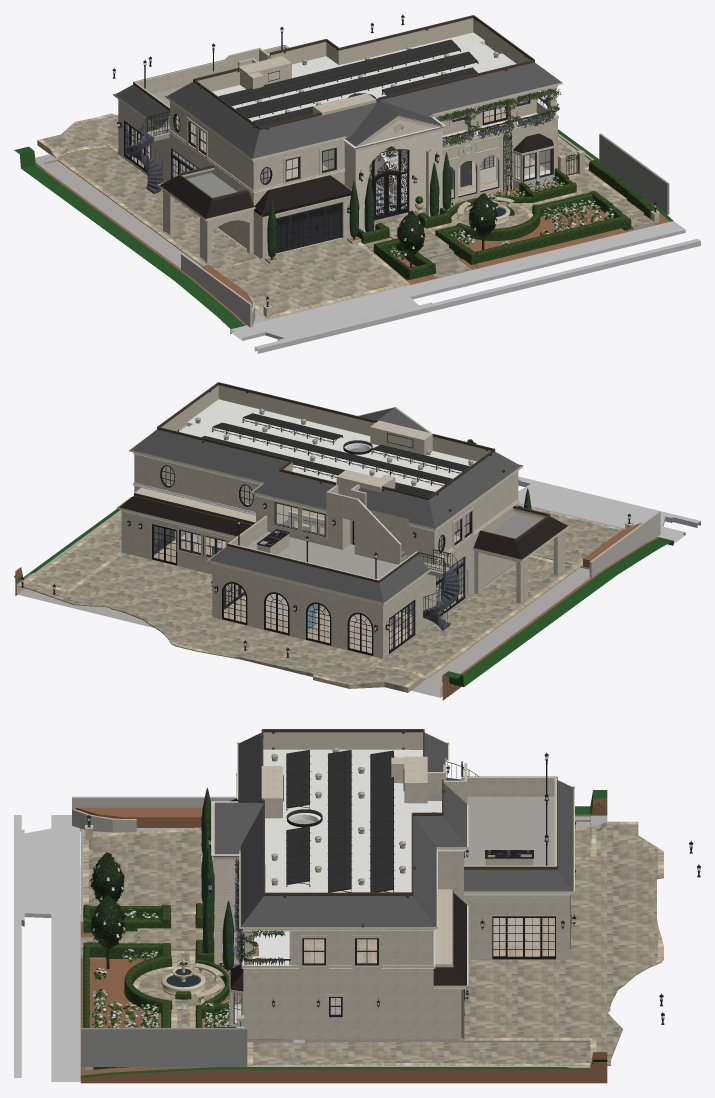
Rendered from exterior-house-0d33cf45f7a2.glb.
3 views of the same model, one above another, from view 1: azimuth 30°, elevation 25°; view 2: azimuth 150°, elevation 25°; view 3: azimuth 270°, elevation 25° (orthographic). The views are drawn at different scales.
Visible parts, largest first — view 1: exterior-house-2097c6bf0b01330b, exterior-house-b5dfe7249a3eb059, exterior-house-e7e6fa835f441169, exterior-house-aee2d046b0172b1e, exterior-house-27d577fbd7f2ff4b, exterior-house-772a07b3069847f0, exterior-house-e33d7b378dc851e2, exterior-house-d56ee2a9d54b1fc2, exterior-house-8ae50a6395ceb8a4, exterior-house-0b9d5d1cd0b2c60f, exterior-house-7cf8e5cfa8b264af, exterior-house-25c3ff3929e46046 (+45 smaller); view 2: exterior-house-37d1b262fca80116, exterior-house-d56ee2a9d54b1fc2, exterior-house-27d577fbd7f2ff4b, exterior-house-8ae50a6395ceb8a4, exterior-house-969b861f9850351e, exterior-house-aee2d046b0172b1e, exterior-house-c91f911e25c8cae7, exterior-house-5febae1537653d02, exterior-house-3763e2fb8578d282, exterior-house-b5dfe7249a3eb059, exterior-house-2c1fd33d433632d0, exterior-house-0cae3eb2f2d52fad (+38 smaller); view 3: exterior-house-37d1b262fca80116, exterior-house-aee2d046b0172b1e, exterior-house-b5dfe7249a3eb059, exterior-house-d56ee2a9d54b1fc2, exterior-house-2c1fd33d433632d0, exterior-house-2097c6bf0b01330b, exterior-house-07f5bde4319b7ab4, exterior-house-e7e6fa835f441169, exterior-house-a75a0c9c223328ee, exterior-house-ded88bd99590d377, exterior-house-af97eba351c411ae, exterior-house-e706aa16b4547c37 (+53 smaller).
Boxes of the visible parts, x1,y1,x2,y2 form: exterior-house-2097c6bf0b01330b: (216,236,409,318); exterior-house-b5dfe7249a3eb059: (230,221,685,340); exterior-house-e7e6fa835f441169: (357,182,625,279); exterior-house-aee2d046b0172b1e: (14,129,673,333); exterior-house-27d577fbd7f2ff4b: (57,147,260,269); exterior-house-772a07b3069847f0: (254,238,700,353); exterior-house-e33d7b378dc851e2: (380,62,560,115); exterior-house-d56ee2a9d54b1fc2: (212,32,516,121); exterior-house-8ae50a6395ceb8a4: (35,133,594,323); exterior-house-0b9d5d1cd0b2c60f: (236,51,478,118); exterior-house-7cf8e5cfa8b264af: (218,39,461,105); exterior-house-25c3ff3929e46046: (253,101,377,158); exterior-house-37d1b262fca80116: (18,552,427,692); exterior-house-d56ee2a9d54b1fc2: (181,399,476,491); exterior-house-27d577fbd7f2ff4b: (377,555,580,677); exterior-house-8ae50a6395ceb8a4: (17,503,624,697); exterior-house-969b861f9850351e: (212,566,380,657); exterior-house-aee2d046b0172b1e: (14,509,673,700); exterior-house-c91f911e25c8cae7: (131,429,288,482); exterior-house-5febae1537653d02: (209,546,383,602); exterior-house-3763e2fb8578d282: (134,454,259,512); exterior-house-b5dfe7249a3eb059: (518,484,685,543); exterior-house-2c1fd33d433632d0: (28,512,121,589); exterior-house-0cae3eb2f2d52fad: (428,451,520,528); exterior-house-37d1b262fca80116: (464,821,663,1065); exterior-house-aee2d046b0172b1e: (80,790,607,1083); exterior-house-b5dfe7249a3eb059: (24,815,81,1081); exterior-house-d56ee2a9d54b1fc2: (263,749,441,892); exterior-house-2c1fd33d433632d0: (247,1041,590,1065); exterior-house-2097c6bf0b01330b: (83,828,214,921); exterior-house-07f5bde4319b7ab4: (81,1028,247,1066); exterior-house-e7e6fa835f441169: (83,903,229,1027); exterior-house-a75a0c9c223328ee: (241,896,436,926); exterior-house-ded88bd99590d377: (464,796,554,865); exterior-house-af97eba351c411ae: (372,979,461,1038); exterior-house-e706aa16b4547c37: (464,897,567,959).
Bounding box in the file's own units: 31.9 × 8.68 × 35.2.
110 materials, 31 textured.
